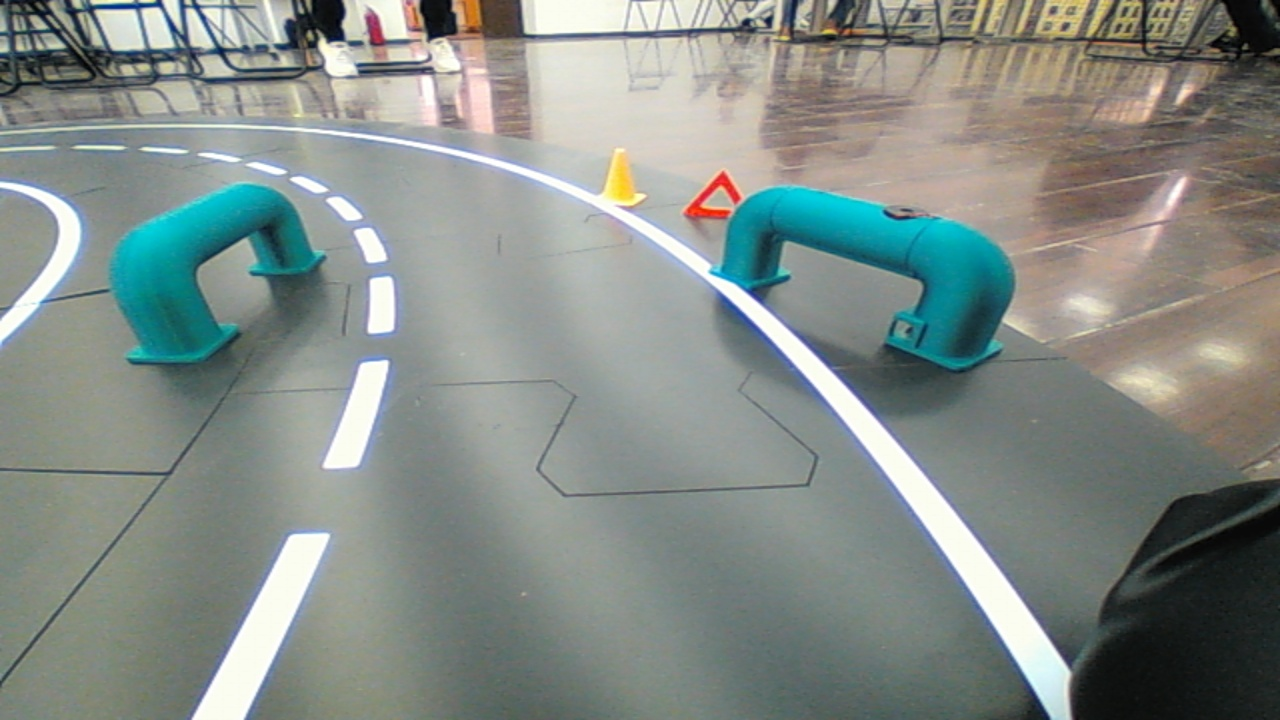No entry: (94, 171, 327, 381)
Parking: (668, 165, 765, 226), (586, 138, 658, 214)
Pedestrian crossing: (696, 163, 1018, 374)
